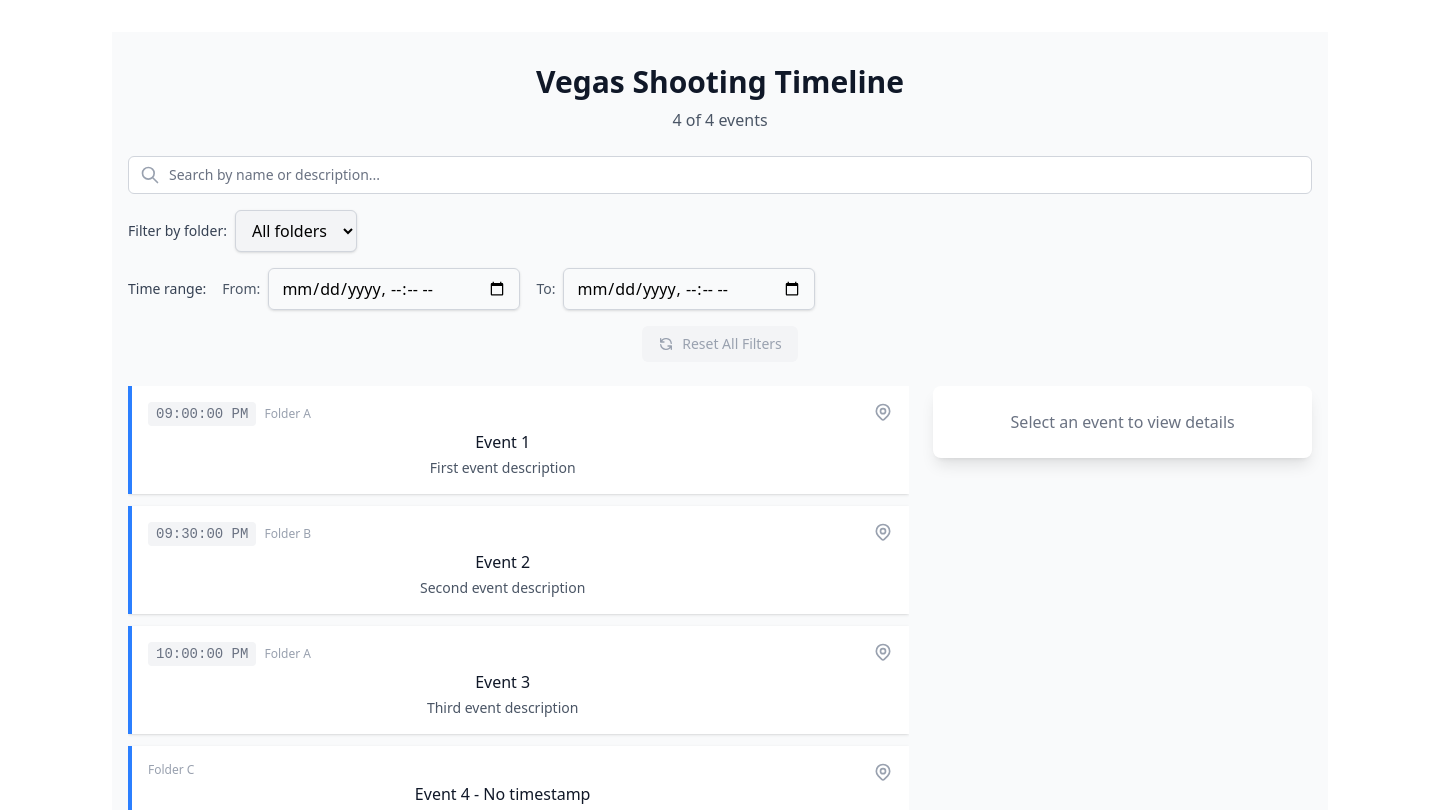
Test: Timeline - Filter Reset Integration › enables reset button when search filter is applied
expect the heading "Event 1" is shown: met, box [475, 431, 530, 453]
expect the button "Reset All Filters" is disabled: met, box [642, 326, 798, 362]
# Apply search filter
Step 1. Type "First" into the field with placeholder "Search by name or description..." → (720, 175), box [128, 156, 1312, 194]
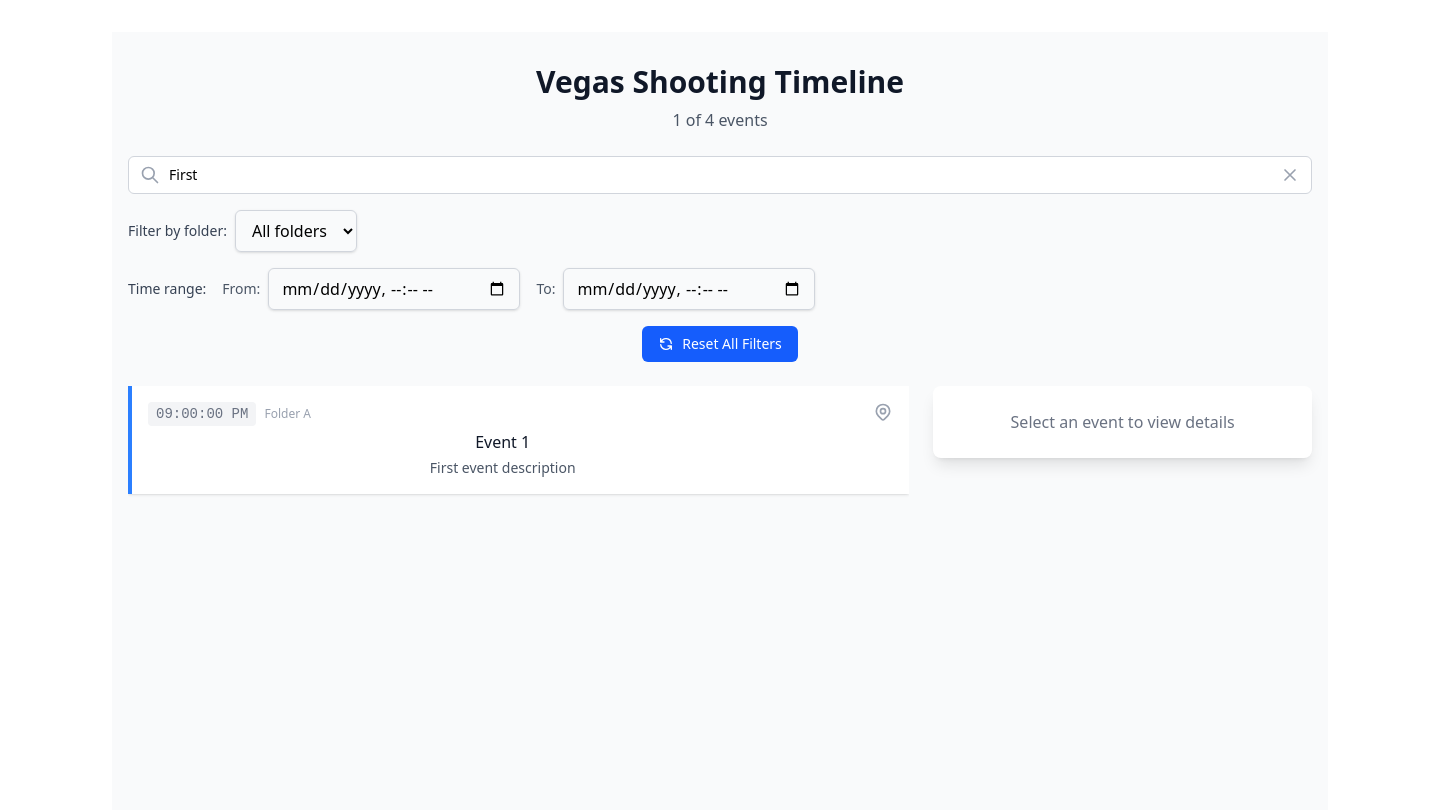
expect the button "Reset All Filters" is enabled: met, box [642, 326, 798, 362]
